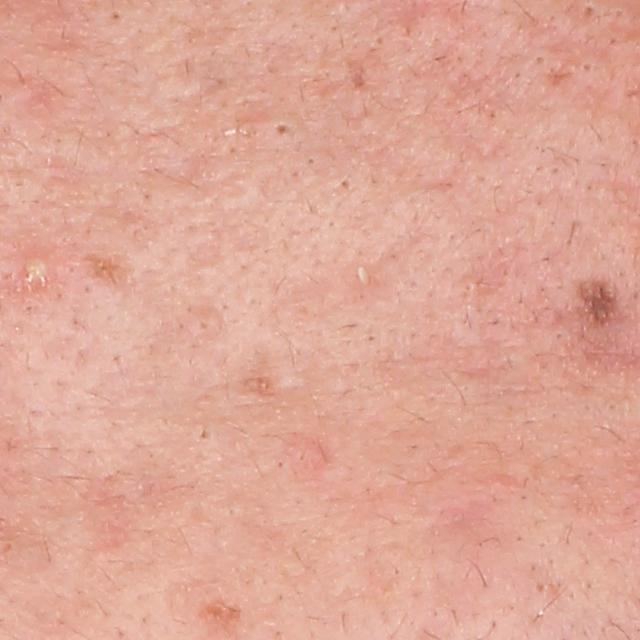comedo: (191, 312, 218, 337), (580, 2, 596, 20), (273, 123, 291, 138), (109, 10, 123, 24), (581, 61, 595, 75), (341, 177, 353, 190)
pustule: (11, 245, 59, 291), (348, 263, 382, 291)
